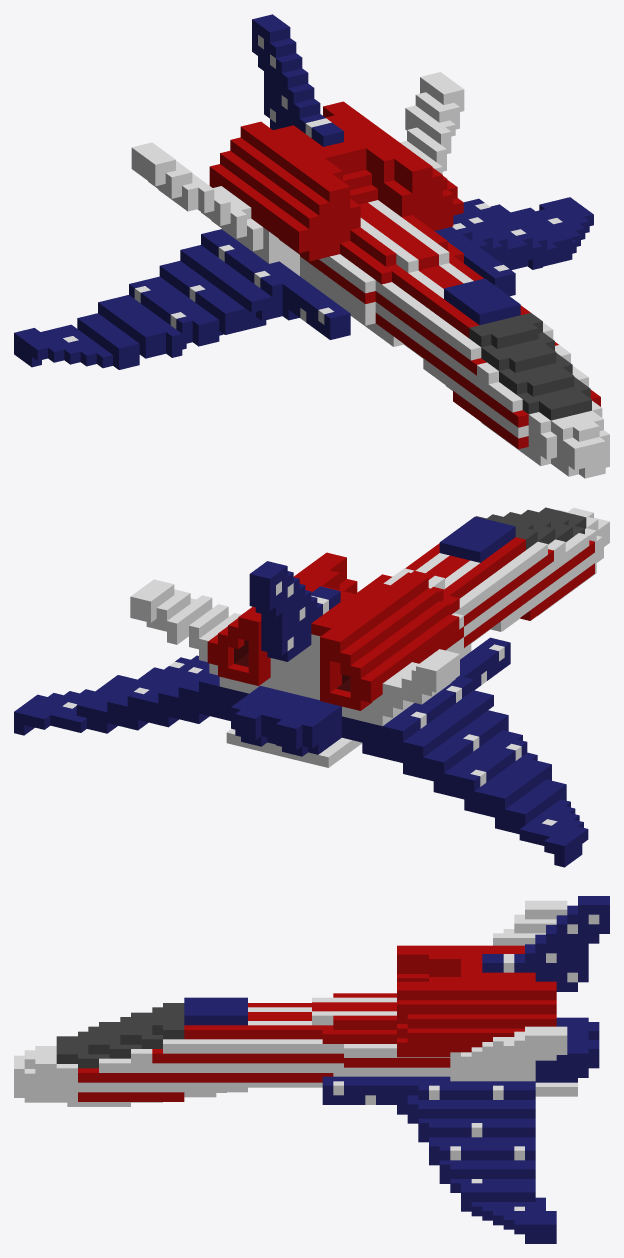
Rendered from shipUSA.FBX.
3 renders of one model, top to bottom at view 1: azimuth 30°, elevation 25°; view 2: azimuth 150°, elevation 25°; view 3: azimuth 270°, elevation 25°, orthographic. The views are drawn at different scales.
Parts seen in each view (by area): view 1: default; view 2: default; view 3: default.
Part boxes in pixels (x1,y1,x2,y2): default: (14, 14, 609, 478); default: (14, 507, 609, 867); default: (14, 896, 609, 1243).
Size of the model in its own units: 54 by 56 by 23.
Materials: 1 (1 with a texture image).
